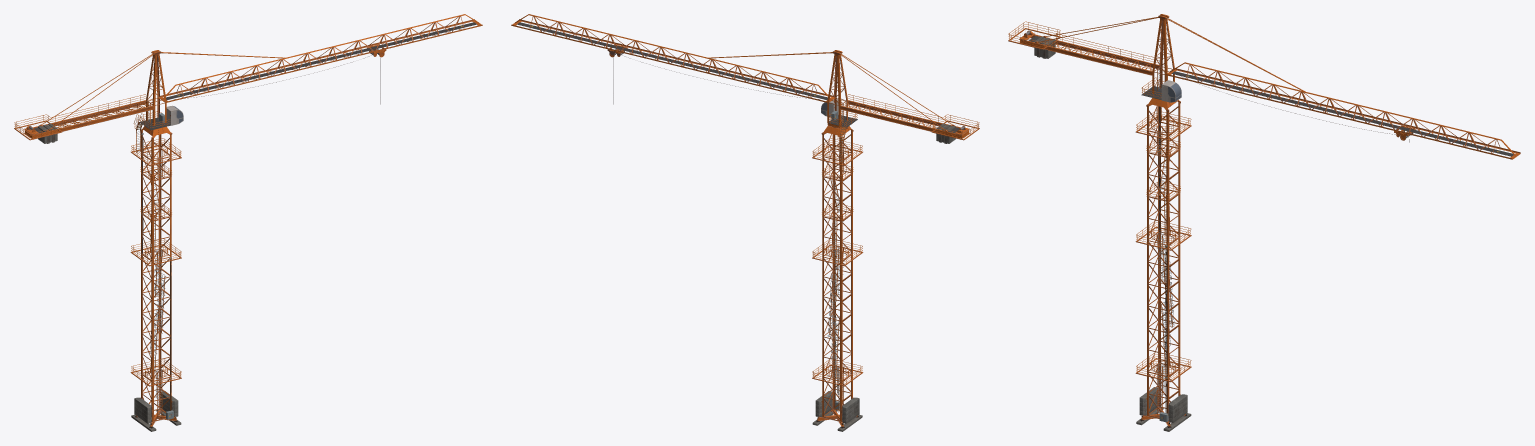
The model's file is Crane_01.fbx.
The picture shows the model from 3 angles, left to right: view 1: azimuth 30°, elevation 25°; view 2: azimuth 150°, elevation 25°; view 3: azimuth 330°, elevation 25°; orthographic projection. The views are drawn at different scales.
Parts seen in each view (by area): view 1: Crane_Front_Arm_Section.001, Crane_Base.001, Crane_Back_Arm_Section.001, Crane_Leg_Section.001, Crane_Head.001, Crane_Leg_Section.002, Ladder_Section.006, Crane_Leg_Section_Open.001, Crane_Leg_Section_Open.002, Platform_04.002, Platform_04.001, Platform_03.001 (+2 smaller); view 2: Crane_Front_Arm_Section.001, Crane_Base.001, Crane_Leg_Section.001, Crane_Leg_Section.002, Crane_Back_Arm_Section.001, Crane_Head.001, Ladder_Section.006, Crane_Leg_Section_Open.001, Crane_Leg_Section_Open.002, Platform_03.001, Platform_04.001, Platform_04.002 (+2 smaller); view 3: Crane_Front_Arm_Section.001, Crane_Base.001, Crane_Leg_Section.001, Crane_Leg_Section.002, Crane_Back_Arm_Section.001, Crane_Head.001, Crane_Leg_Section_Open.001, Crane_Leg_Section_Open.002, Ladder_Section.006, Platform_04.002, Platform_03.001, Platform_04.001 (+2 smaller).
Boxes of the visible parts, x1,y1,x2,y2 form: Crane_Front_Arm_Section.001: [176, 15, 464, 98]; Crane_Base.001: [131, 370, 181, 431]; Crane_Back_Arm_Section.001: [50, 94, 153, 132]; Crane_Leg_Section.001: [141, 249, 171, 341]; Crane_Head.001: [139, 50, 183, 130]; Crane_Leg_Section.002: [141, 133, 171, 221]; Ladder_Section.006: [149, 249, 165, 372]; Crane_Leg_Section_Open.001: [141, 329, 171, 381]; Crane_Leg_Section_Open.002: [141, 209, 171, 260]; Platform_04.002: [130, 239, 181, 266]; Platform_04.001: [130, 359, 181, 386]; Platform_03.001: [131, 138, 181, 165]; Crane_Front_Arm_Section.001: [529, 15, 817, 98]; Crane_Base.001: [812, 370, 862, 431]; Crane_Leg_Section.001: [822, 249, 852, 341]; Crane_Leg_Section.002: [822, 133, 852, 221]; Crane_Back_Arm_Section.001: [840, 94, 943, 132]; Crane_Head.001: [821, 50, 857, 128]; Ladder_Section.006: [827, 246, 844, 377]; Crane_Leg_Section_Open.001: [822, 329, 852, 381]; Crane_Leg_Section_Open.002: [822, 209, 852, 260]; Platform_03.001: [812, 138, 862, 165]; Platform_04.001: [812, 360, 863, 386]; Platform_04.002: [812, 239, 863, 266]; Crane_Front_Arm_Section.001: [1185, 63, 1500, 154]; Crane_Base.001: [1136, 364, 1191, 431]; Crane_Leg_Section.001: [1147, 232, 1180, 333]; Crane_Leg_Section.002: [1147, 104, 1180, 201]; Crane_Back_Arm_Section.001: [1048, 33, 1159, 75]; Crane_Head.001: [1141, 14, 1181, 102]; Crane_Leg_Section_Open.001: [1147, 319, 1180, 376]; Crane_Leg_Section_Open.002: [1147, 189, 1180, 244]; Ladder_Section.006: [1156, 232, 1174, 367]; Platform_04.002: [1135, 221, 1191, 250]; Platform_03.001: [1135, 110, 1191, 140]; Platform_04.001: [1135, 353, 1191, 382].
Bounding box in the file's own units: 7164 × 545 × 5531.
